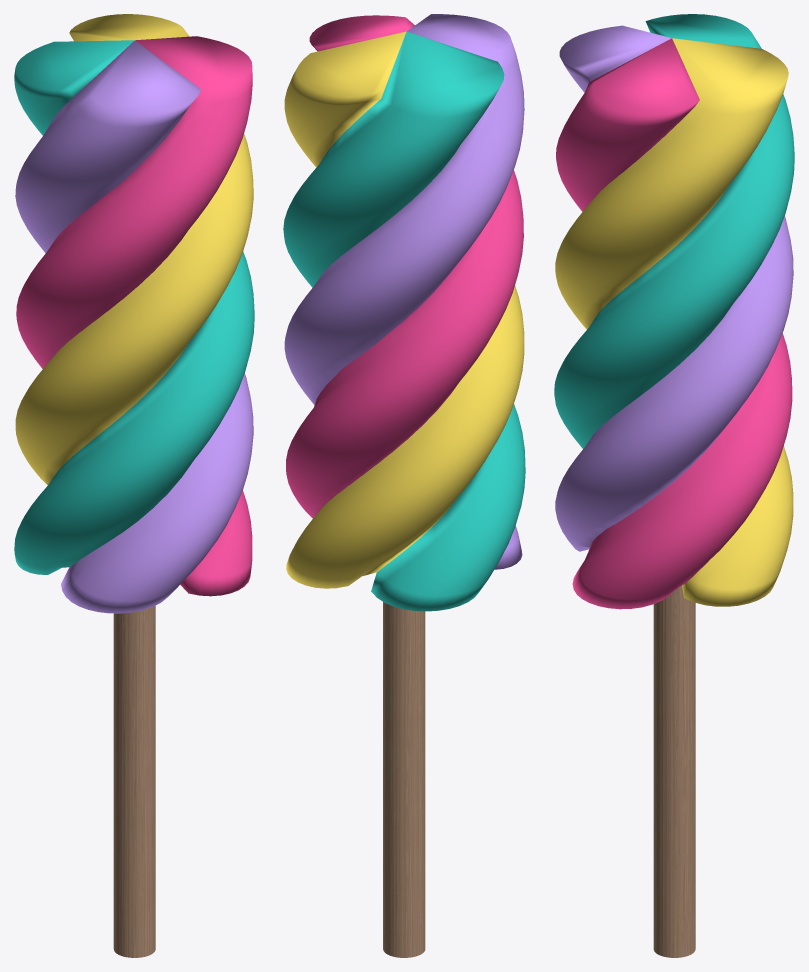
Rendered from chupetin.glb.
3 renders of one model, left to right at view 1: azimuth 30°, elevation 25°; view 2: azimuth 150°, elevation 25°; view 3: azimuth 270°, elevation 25°, orthographic.
Parts seen in each view (by area): view 1: Lollipop_Vibrant_V3, Stick_V3; view 2: Lollipop_Vibrant_V3, Stick_V3; view 3: Lollipop_Vibrant_V3, Stick_V3.
Boxes of the visible parts, x1,y1,x2,y2 form: Lollipop_Vibrant_V3: [14, 14, 254, 613]; Stick_V3: [113, 606, 155, 957]; Lollipop_Vibrant_V3: [283, 14, 525, 611]; Stick_V3: [383, 602, 425, 957]; Lollipop_Vibrant_V3: [554, 14, 794, 609]; Stick_V3: [653, 585, 695, 957].
Size of the model in its own units: 0.034 by 0.1421 by 0.034.
Materials: 5 (1 with a texture image).
